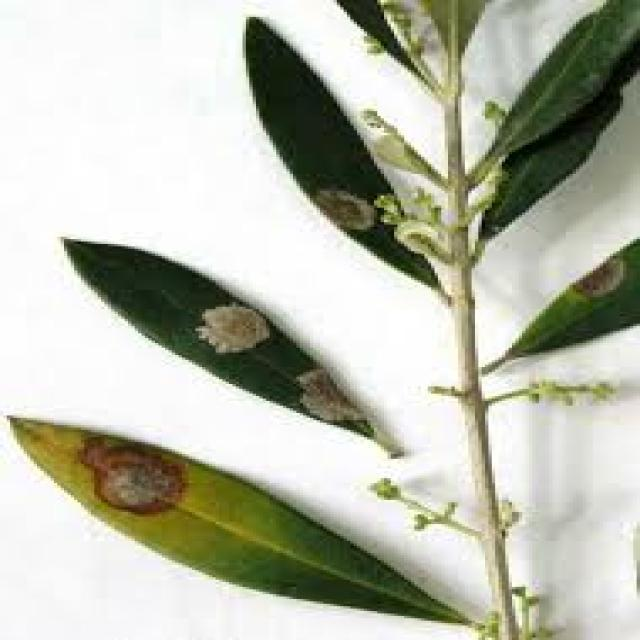OlivePeacockSpot: (10, 416, 458, 620), (246, 19, 445, 292), (64, 239, 317, 396), (512, 239, 637, 355)
